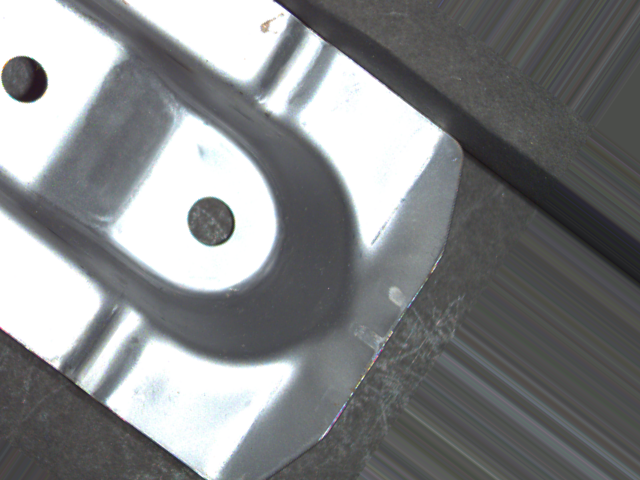defect: (184, 194, 241, 250)
